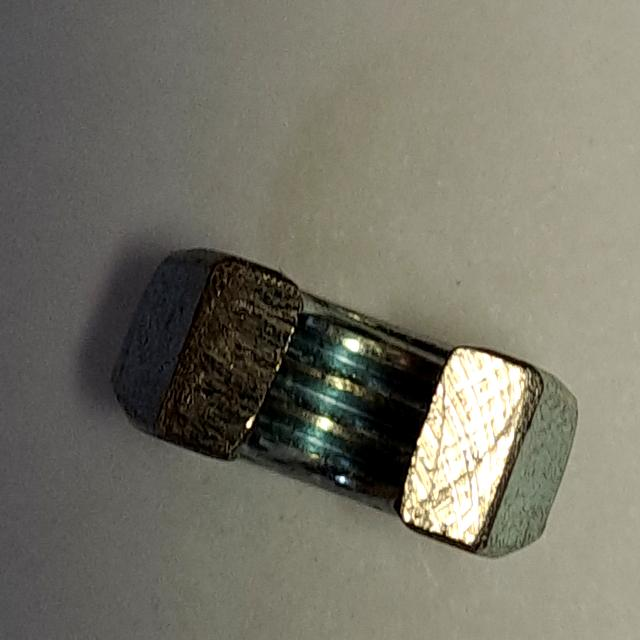Side-Fracture: (102, 229, 595, 580)
